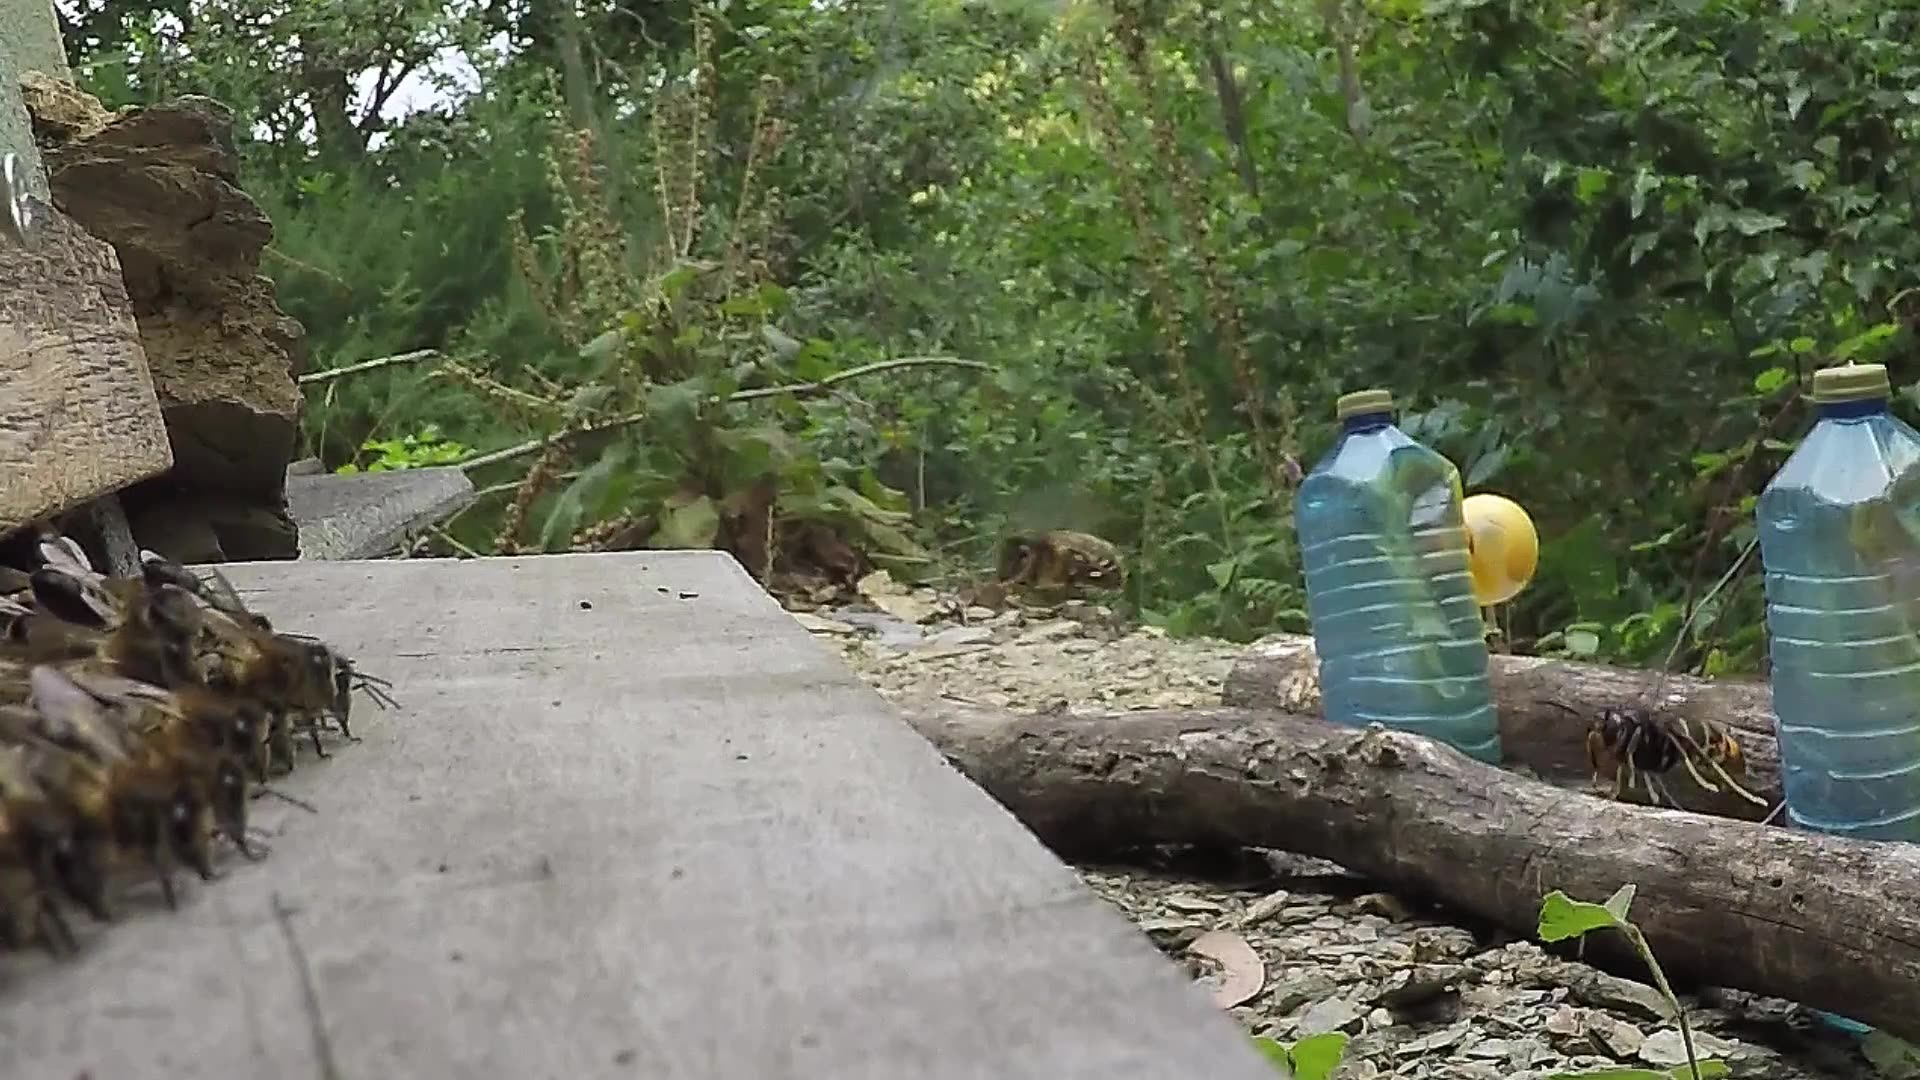bee: (1, 520, 396, 976), (985, 525, 1155, 611)
hornet: (1576, 688, 1762, 800)
